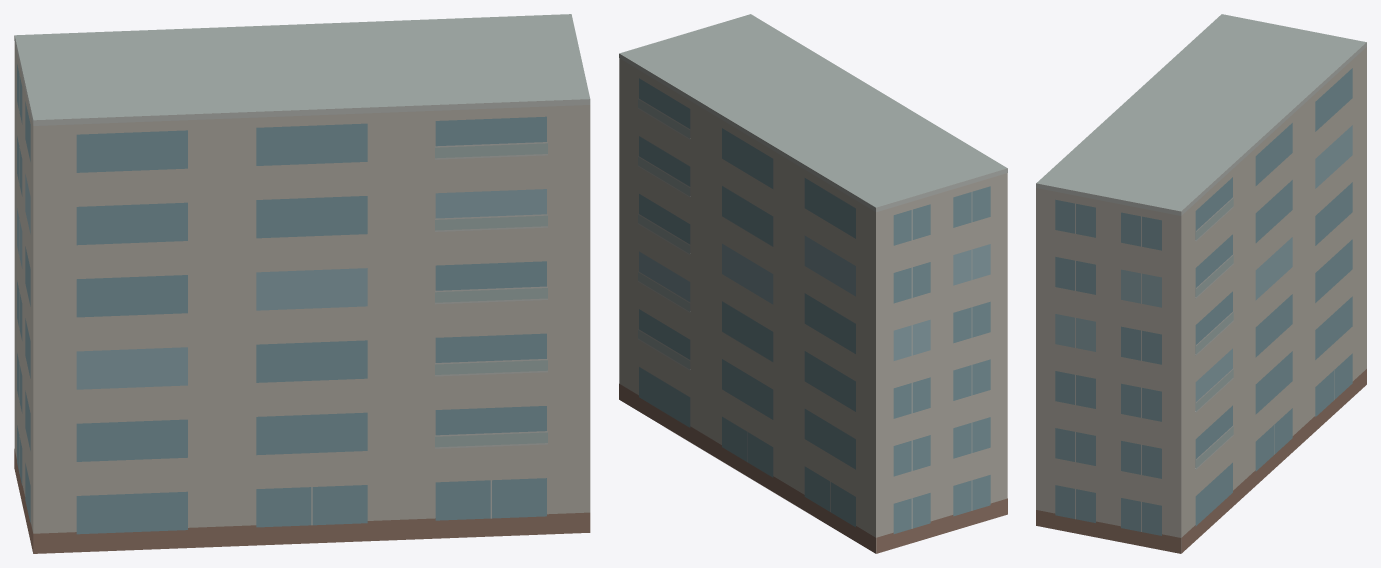
File: survey-upis-32845153.glb
The picture shows the model from 3 angles, left to right: view 1: azimuth 30°, elevation 25°; view 2: azimuth 150°, elevation 25°; view 3: azimuth 270°, elevation 25°; orthographic projection. The views are drawn at different scales.
Visible parts, largest first — view 1: survey-upis-32845153.tmp; view 2: survey-upis-32845153.tmp; view 3: survey-upis-32845153.tmp.
Part boxes in pixels (x1=…): survey-upis-32845153.tmp: x1=14, y1=14, x2=590, y2=553; survey-upis-32845153.tmp: x1=619, y1=14, x2=1007, y2=553; survey-upis-32845153.tmp: x1=1036, y1=14, x2=1366, y2=553.
Size of the model in its own units: 22.64 by 18.3 by 16.03.
